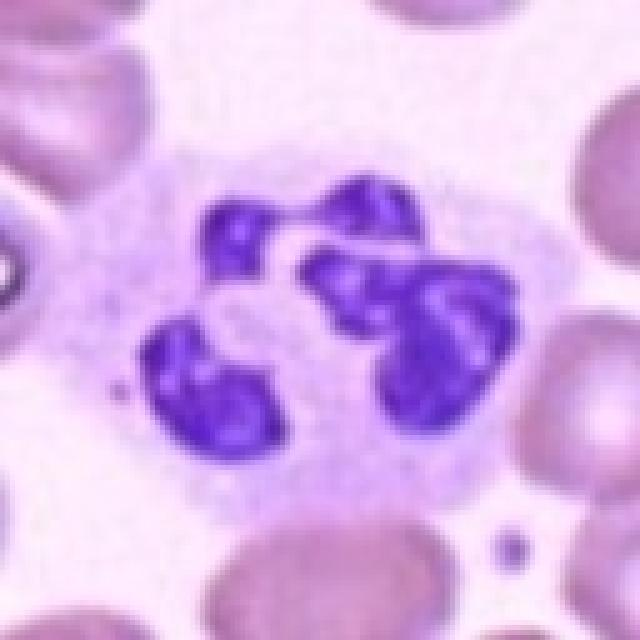neutro: (51, 75, 534, 538)
